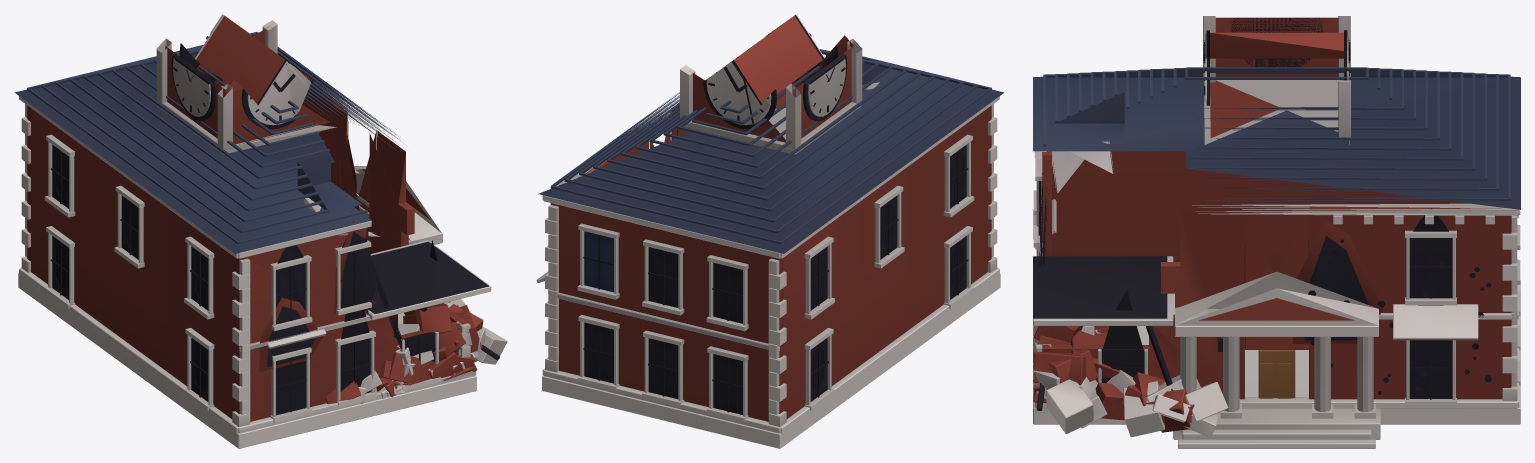
3 renders of one model, left to right at view 1: azimuth 30°, elevation 25°; view 2: azimuth 150°, elevation 25°; view 3: azimuth 270°, elevation 25°, orthographic. The views are drawn at different scales.
Parts seen in each view (by area): view 1: body_pal_brick, body_pal_picketWhite, roof_pal_denim, body_pal_uiDark; view 2: body_pal_brick, body_pal_picketWhite, roof_pal_denim, body_pal_uiDark, body_pal_blueTrim; view 3: body_pal_brick, body_pal_picketWhite, roof_pal_denim, body_pal_uiDark, door_front_pal_woodWarm.
Boxes of the visible parts, x1,y1,x2,y2 form: body_pal_brick: [27, 15, 483, 421]; body_pal_picketWhite: [18, 14, 507, 448]; roof_pal_denim: [14, 32, 398, 253]; body_pal_uiDark: [50, 17, 499, 415]; body_pal_brick: [550, 15, 991, 421]; body_pal_picketWhite: [536, 14, 1000, 448]; roof_pal_denim: [538, 49, 1004, 253]; body_pal_uiDark: [583, 14, 968, 414]; body_pal_blueTrim: [584, 231, 613, 291]; body_pal_brick: [1033, 17, 1511, 432]; body_pal_picketWhite: [1033, 16, 1520, 448]; roof_pal_denim: [1033, 67, 1520, 209]; body_pal_uiDark: [1033, 17, 1491, 410]; door_front_pal_woodWarm: [1258, 350, 1295, 398].
Bounding box in the file's own units: 12.05 × 12 × 16.
